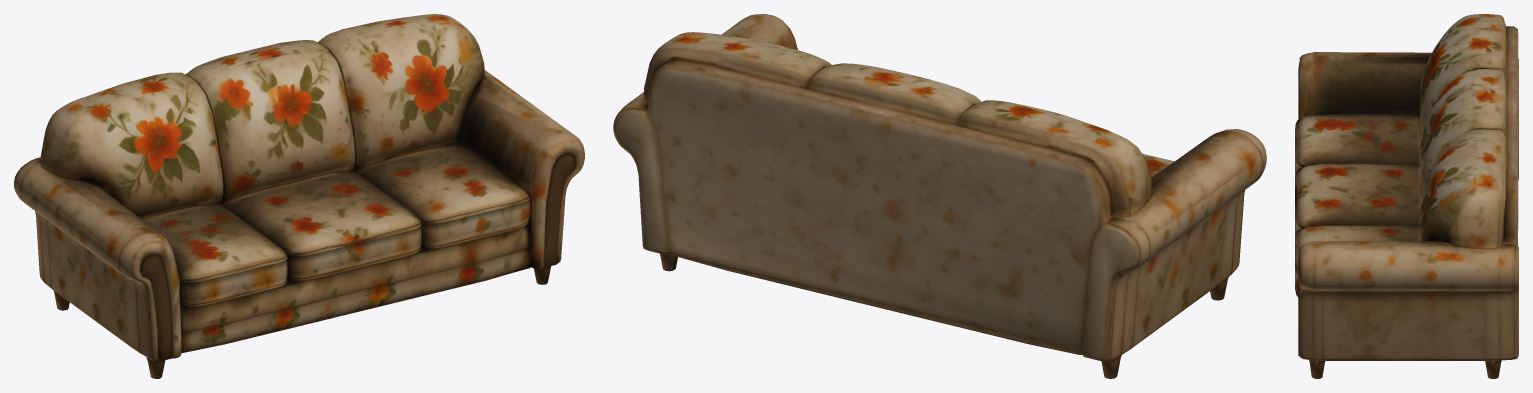
File: old_cheap_couch_with_a_bad_floral_pattern_53278f1b_v1.glb
3 views of the same model, side by side, from view 1: azimuth 30°, elevation 25°; view 2: azimuth 150°, elevation 25°; view 3: azimuth 270°, elevation 25° (orthographic). The views are drawn at different scales.
Parts seen in each view (by area): view 1: material; view 2: material; view 3: material.
Part boxes in pixels (x1=…): material: x1=14, y1=14, x2=584, y2=378; material: x1=613, y1=14, x2=1266, y2=378; material: x1=1295, y1=14, x2=1518, y2=378.
Bounding box in the file's own units: 1.9 × 0.8182 × 0.8456.
Materials: 1 (1 with a texture image).
